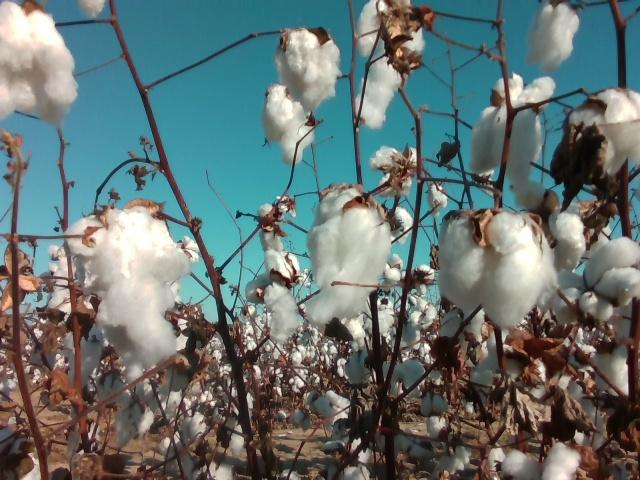cotton_ready: (64, 211, 193, 360), (440, 209, 553, 322), (468, 74, 558, 185), (304, 208, 391, 320), (0, 0, 76, 121), (353, 0, 421, 129), (544, 238, 640, 325), (511, 181, 587, 264), (569, 91, 640, 174), (244, 249, 300, 337), (277, 32, 341, 108), (264, 85, 318, 165), (525, 0, 580, 69), (371, 145, 419, 196), (595, 336, 630, 398), (543, 434, 586, 480), (315, 185, 368, 220), (489, 450, 545, 480), (259, 202, 288, 253), (77, 0, 104, 17)
